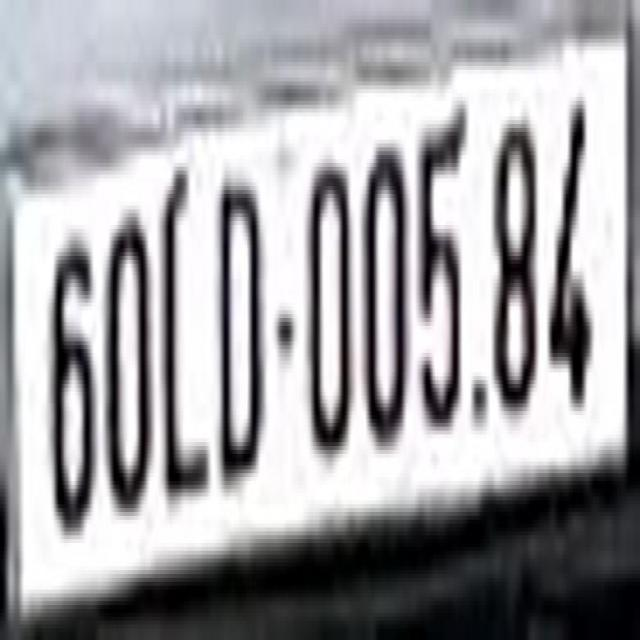0: (102, 213, 152, 512), (310, 158, 354, 466), (364, 148, 407, 438)
4: (546, 105, 598, 419)
5: (420, 120, 464, 450)
6: (50, 217, 96, 547)
8: (489, 120, 537, 415)
D: (218, 178, 262, 496)
L: (162, 190, 214, 508)
